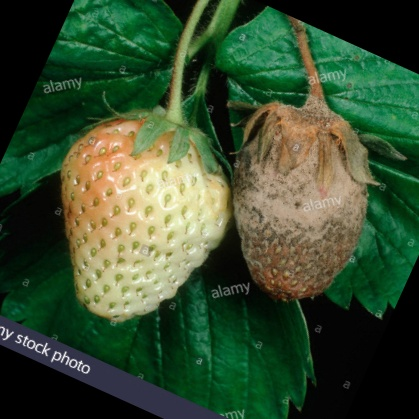Gray_Mold: (205, 54, 360, 261)
